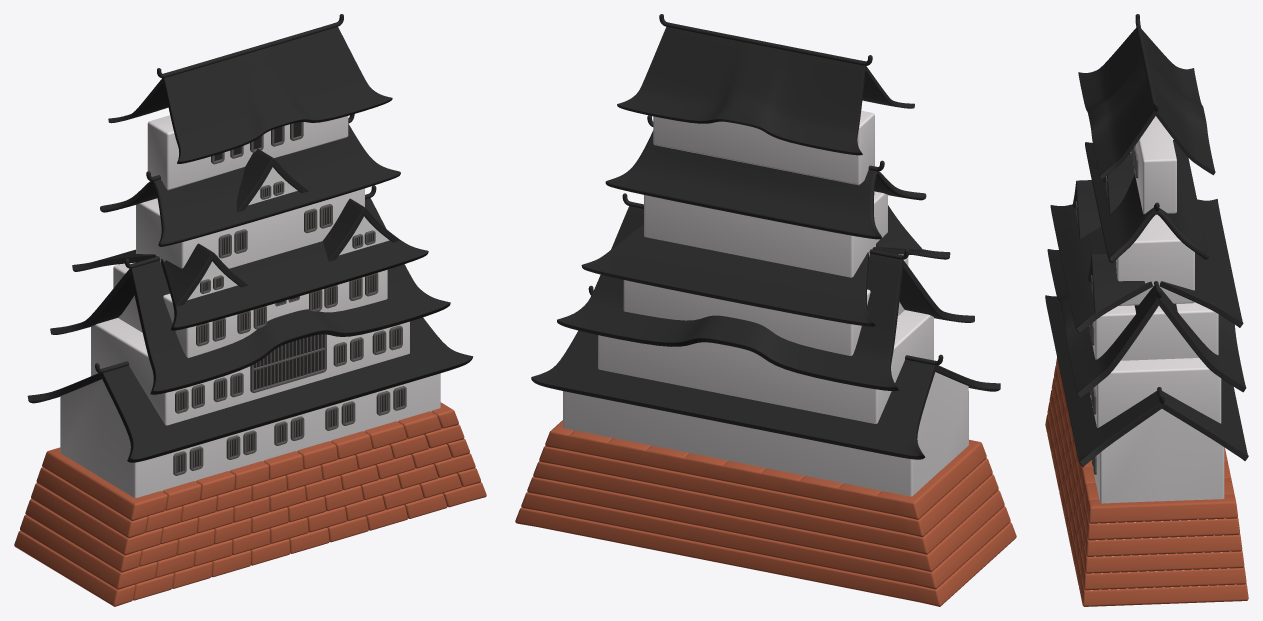
The model's file is Himeji-Castle.glb.
3 renders of one model, left to right at view 1: azimuth 30°, elevation 25°; view 2: azimuth 150°, elevation 25°; view 3: azimuth 270°, elevation 25°, orthographic. The views are drawn at different scales.
Parts seen in each view (by area): view 1: Plane.120, Plane.337, Plane.143, Plane.121, Plane.122, Plane.232, Plane.206, Plane.144, Plane.231, Plane.338, Plane.205, Plane.283 (+5 smaller); view 2: Plane.120, Plane.337, Plane.121, Plane.143, Plane.122, Plane.232, Plane.206, Plane.144, Plane.231, Plane.338, Plane.205, Plane.351 (+1 smaller); view 3: Plane.120, Plane.337, Plane.121, Plane.206, Plane.122, Plane.143, Plane.144, Plane.232, Plane.205, Plane.231, Plane.338, Plane.283 (+2 smaller).
Part boxes in pixels (left/top/right/bottom): Plane.120: left=14, top=402, right=486, bottom=606; Plane.337: left=108, top=26, right=392, bottom=163; Plane.143: left=50, top=198, right=450, bottom=394; Plane.121: left=60, top=373, right=440, bottom=497; Plane.122: left=27, top=317, right=473, bottom=462; Plane.232: left=100, top=124, right=400, bottom=246; Plane.206: left=72, top=240, right=428, bottom=330; Plane.144: left=91, top=318, right=409, bottom=425; Plane.231: left=136, top=188, right=364, bottom=268; Plane.338: left=147, top=115, right=348, bottom=190; Plane.205: left=113, top=262, right=387, bottom=357; Plane.283: left=164, top=198, right=400, bottom=306; Plane.120: left=515, top=420, right=1016, bottom=606; Plane.337: left=617, top=26, right=914, bottom=155; Plane.121: left=563, top=372, right=968, bottom=496; Plane.143: left=557, top=206, right=974, bottom=390; Plane.122: left=531, top=330, right=1000, bottom=459; Plane.232: left=605, top=130, right=926, bottom=239; Plane.206: left=581, top=223, right=950, bottom=326; Plane.144: left=598, top=310, right=933, bottom=423; Plane.231: left=644, top=191, right=887, bottom=277; Plane.338: left=653, top=110, right=874, bottom=185; Plane.205: left=623, top=257, right=908, bottom=355; Plane.351: left=659, top=14, right=872, bottom=65; Plane.120: left=1045, top=357, right=1248, bottom=606; Plane.337: left=1078, top=27, right=1215, bottom=179; Plane.121: left=1091, top=409, right=1224, bottom=503; Plane.206: left=1050, top=199, right=1243, bottom=333; Plane.122: left=1045, top=295, right=1248, bottom=466; Plane.143: left=1047, top=249, right=1246, bottom=398; Plane.144: left=1090, top=358, right=1221, bottom=427; Plane.232: left=1085, top=140, right=1208, bottom=262; Plane.205: left=1089, top=302, right=1218, bottom=360; Plane.231: left=1116, top=214, right=1194, bottom=305; Plane.338: left=1130, top=116, right=1176, bottom=214; Plane.283: left=1072, top=180, right=1144, bottom=313.
Bounding box in the file's own units: 6.1 × 6.9 × 2.8.
